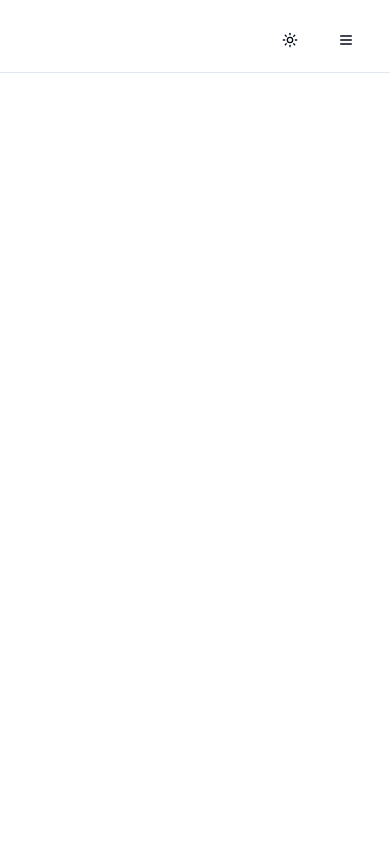
Test case: MainNav - mobile menu › toggles mobile menu
The width and height of the screenshot is (390, 844).
Later steps or results of the test are not shown.
// Open menu
What coordinates should you click on to do the following:
click the button named "toggle mobile menu"
I would click on:
 (346, 40)
Its box is [326,20,366,60].
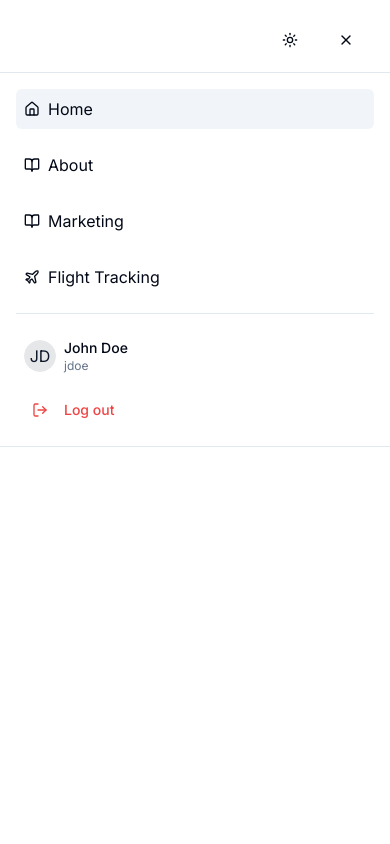
expect the text "Home" is shown: met, box [48,97,93,121]
